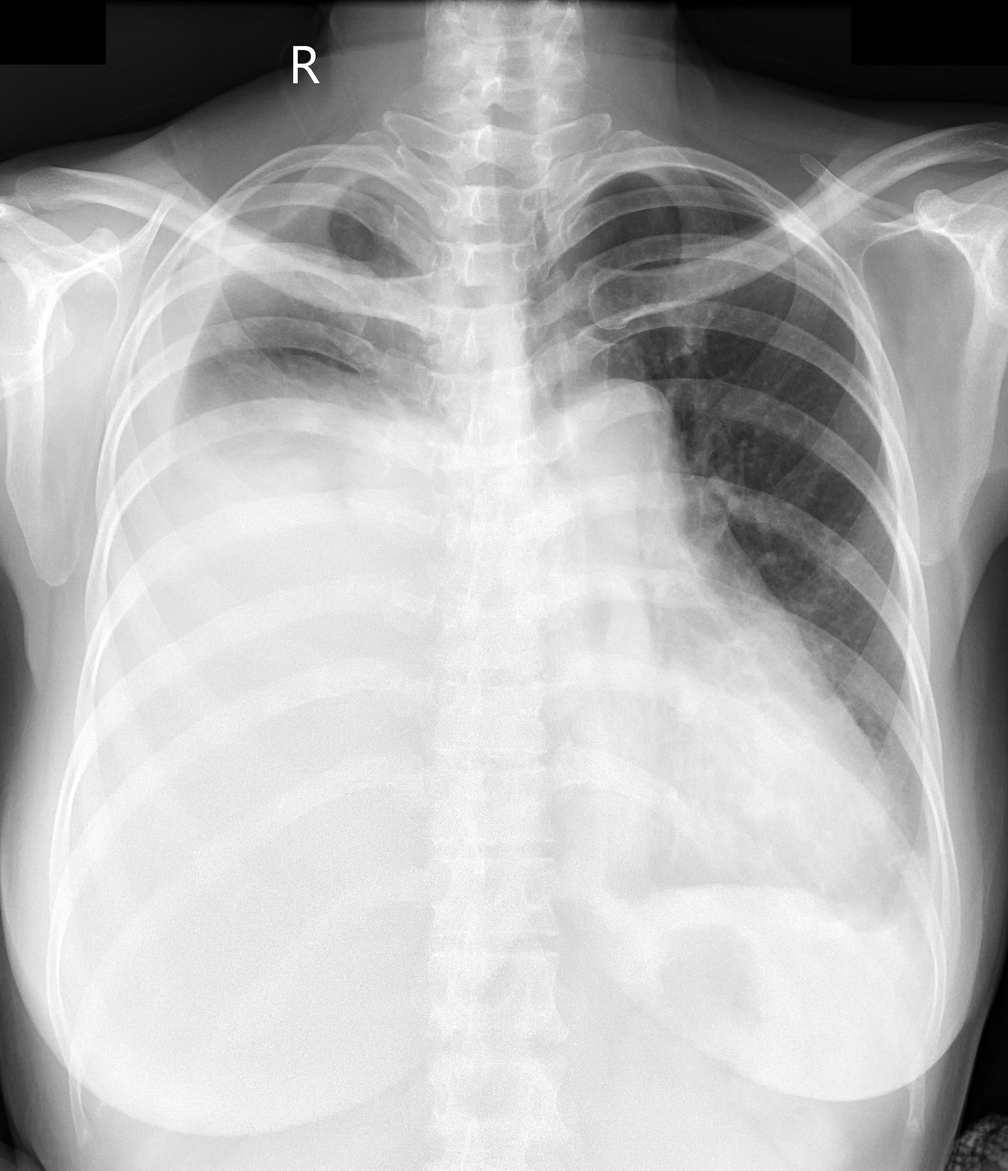Aortic enlargement: (537, 385, 704, 580)
